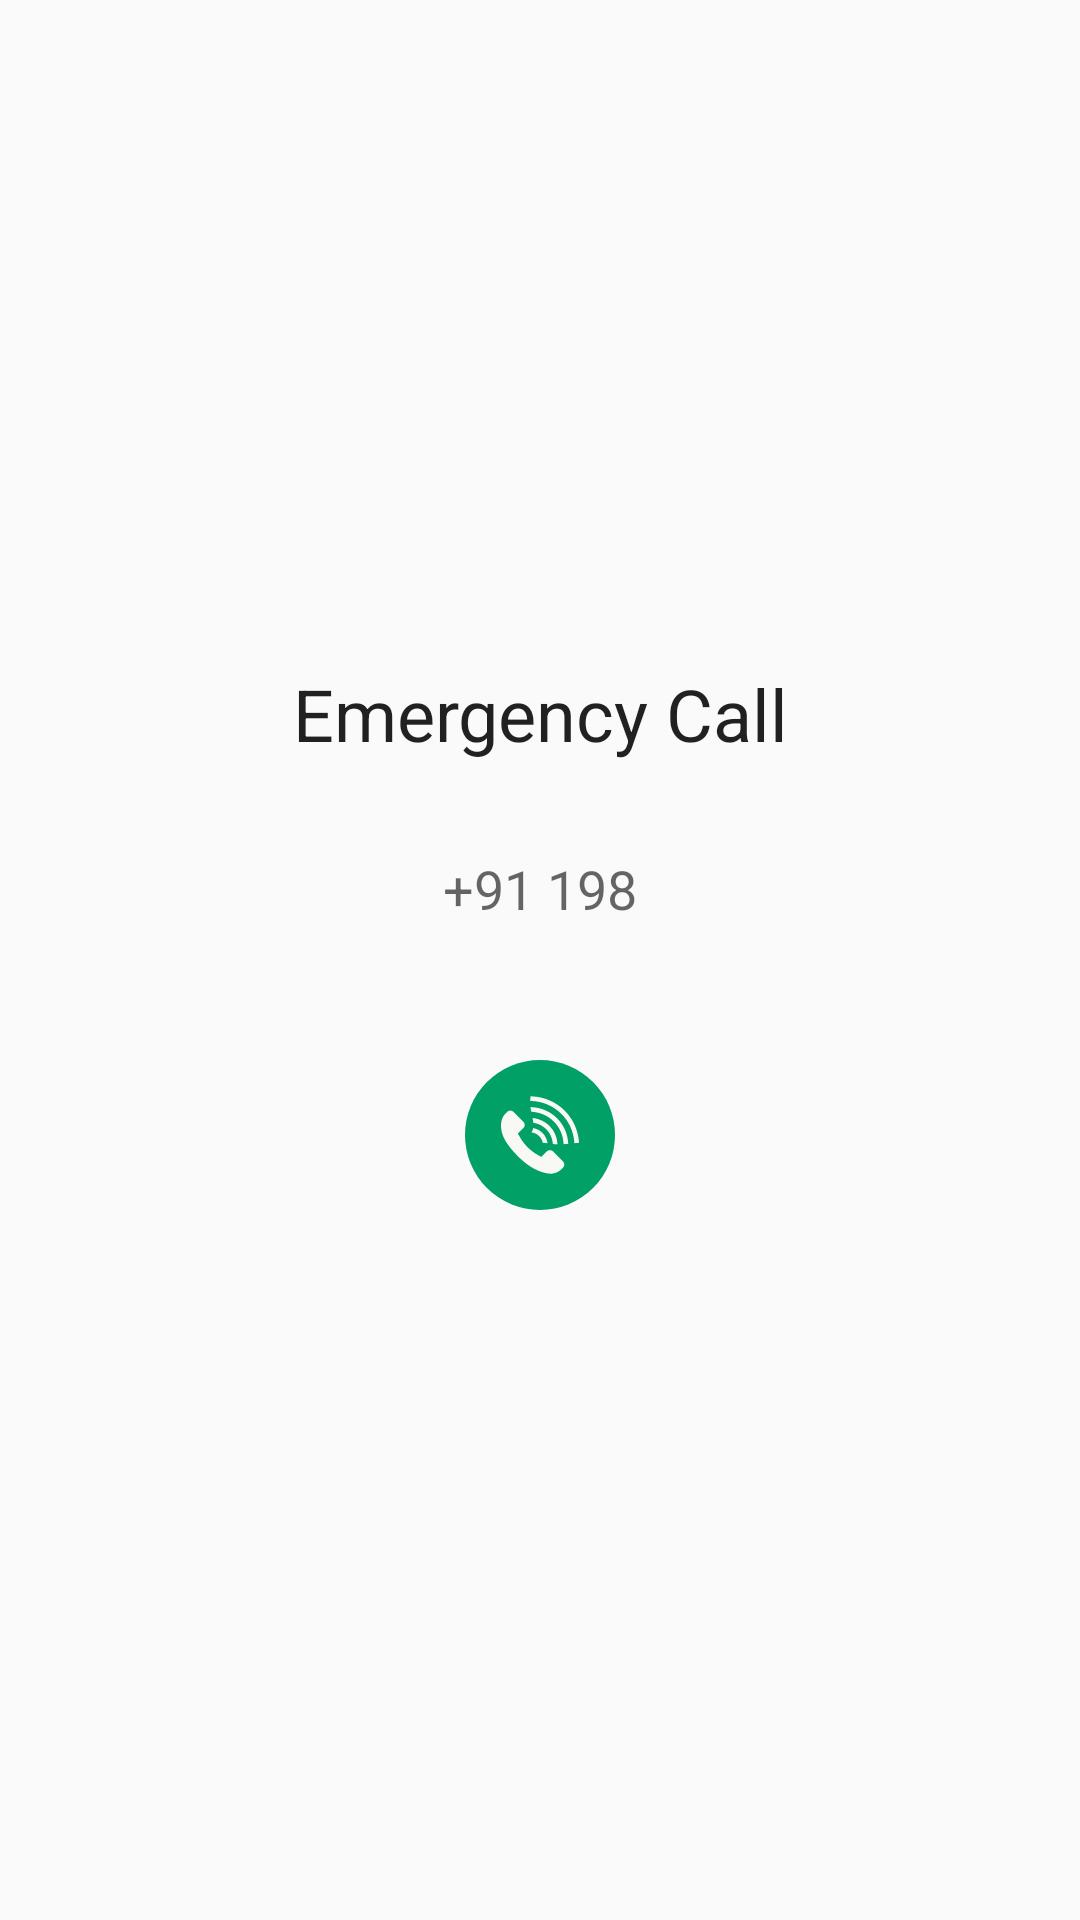

Screen size 1080*1920. Icon name, then its center in pixels as (x,y):
call volume: (540,1135)
